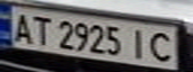2: (51, 17, 75, 51), (87, 21, 109, 55)
5: (103, 24, 127, 57)
9: (69, 20, 90, 53)
A: (6, 10, 36, 44)
C: (145, 29, 181, 63)
I: (124, 26, 151, 61)
T: (27, 14, 54, 47)
